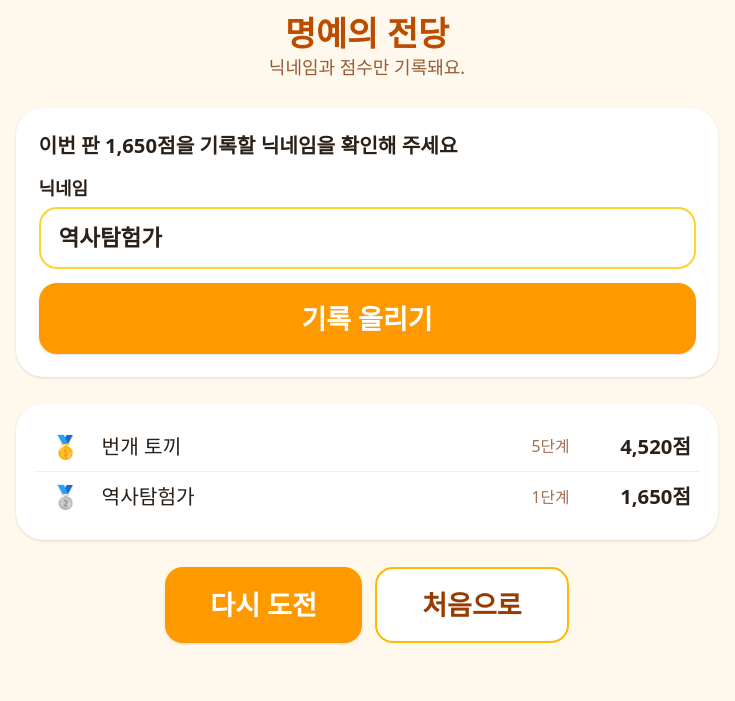
Scenario: LeaderboardPage › 규칙에 맞지 않는 닉네임은 보내지 않고, 서버 거부 메시지는 그대로 보여 준다
Replace the text in the field labelled "닉네임" with "가" at (367, 238), box left=38, top=206, right=696, bottom=269
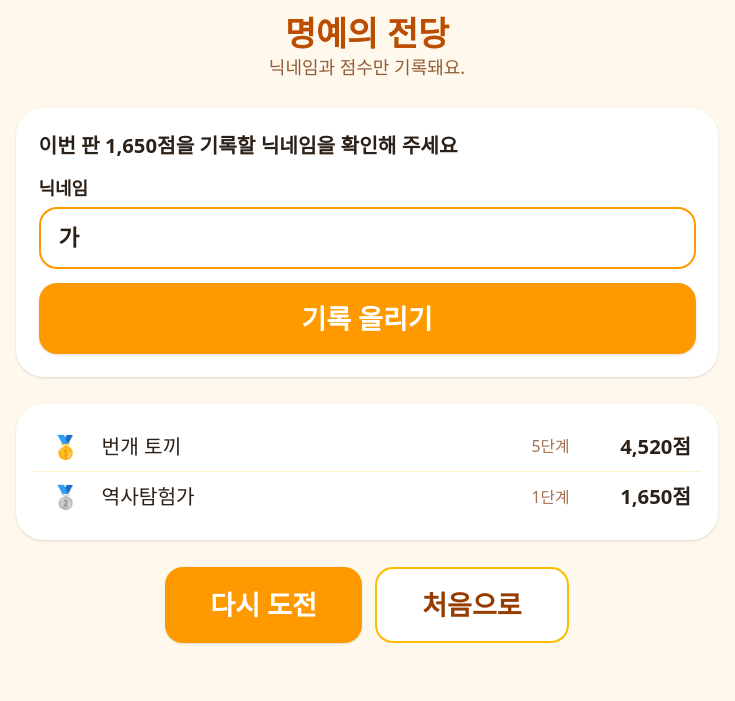
Click the button "기록 올리기" at (367, 318), box left=38, top=282, right=696, bottom=354
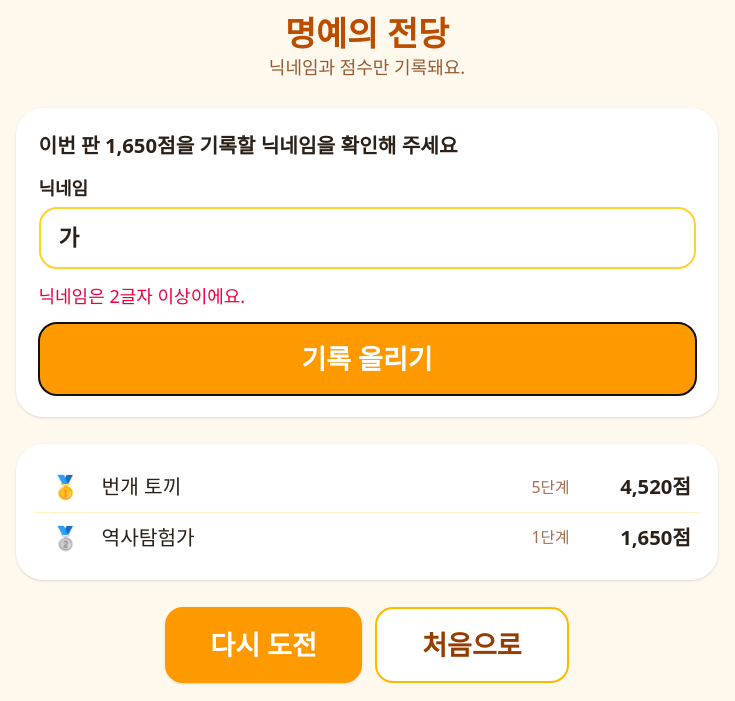
Expected: the message shows "2글자 이상", left=38, top=284, right=245, bottom=308
Replace the text in the field labelled "닉네임" with "탐험가" at (367, 238), box left=38, top=206, right=696, bottom=269
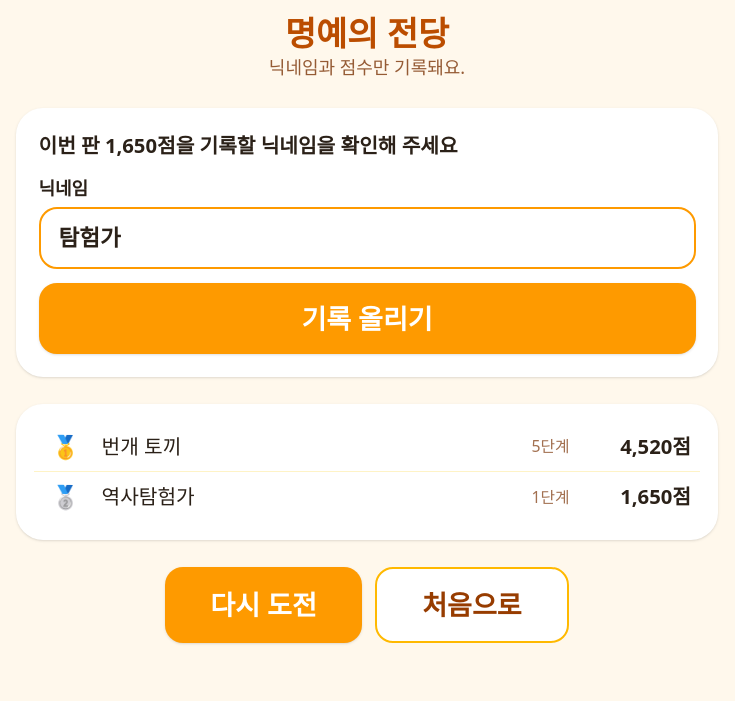
Click the button "기록 올리기" at (367, 318), box left=38, top=282, right=696, bottom=354
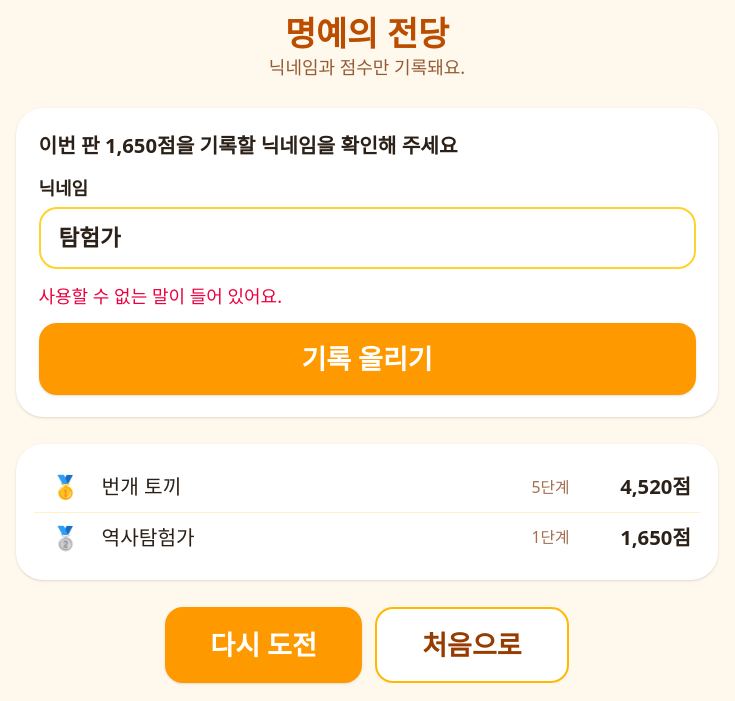
Expected: the text "사용할 수 없는 말이 들어 있어요." is shown, left=38, top=284, right=282, bottom=308
